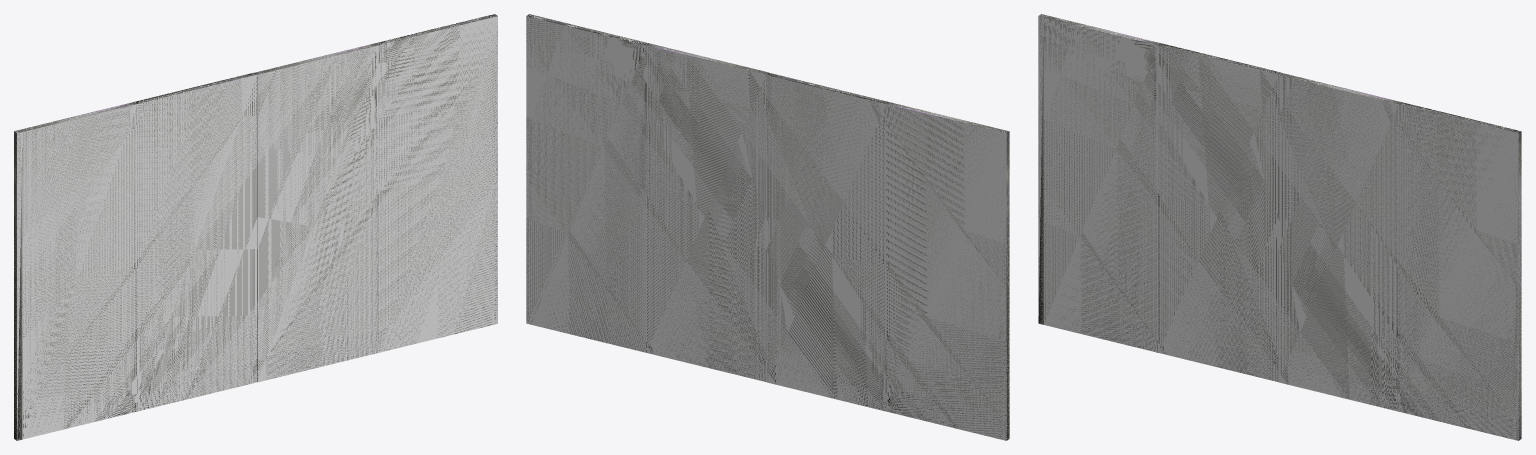
Rendered from SRS_divider3.dae.
3 views of the same model, side by side, from view 1: azimuth 30°, elevation 25°; view 2: azimuth 150°, elevation 25°; view 3: azimuth 330°, elevation 25° (orthographic).
Visible parts, largest first — view 1: SketchUp; view 2: SketchUp; view 3: SketchUp (×2).
Part boxes in pixels (box(x1,y1,x2,y2)): SketchUp: box(14, 14, 497, 440); SketchUp: box(526, 14, 1009, 440); SketchUp (×2): box(1038, 14, 1521, 440).
Bounding box in the file's own units: 4.25 × 0.048 × 2.6.
13 materials, 11 textured.
